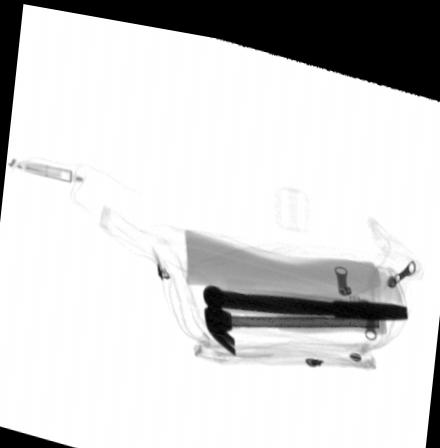Hammer: (202, 276, 386, 345)
Pliers: (218, 281, 407, 306)
